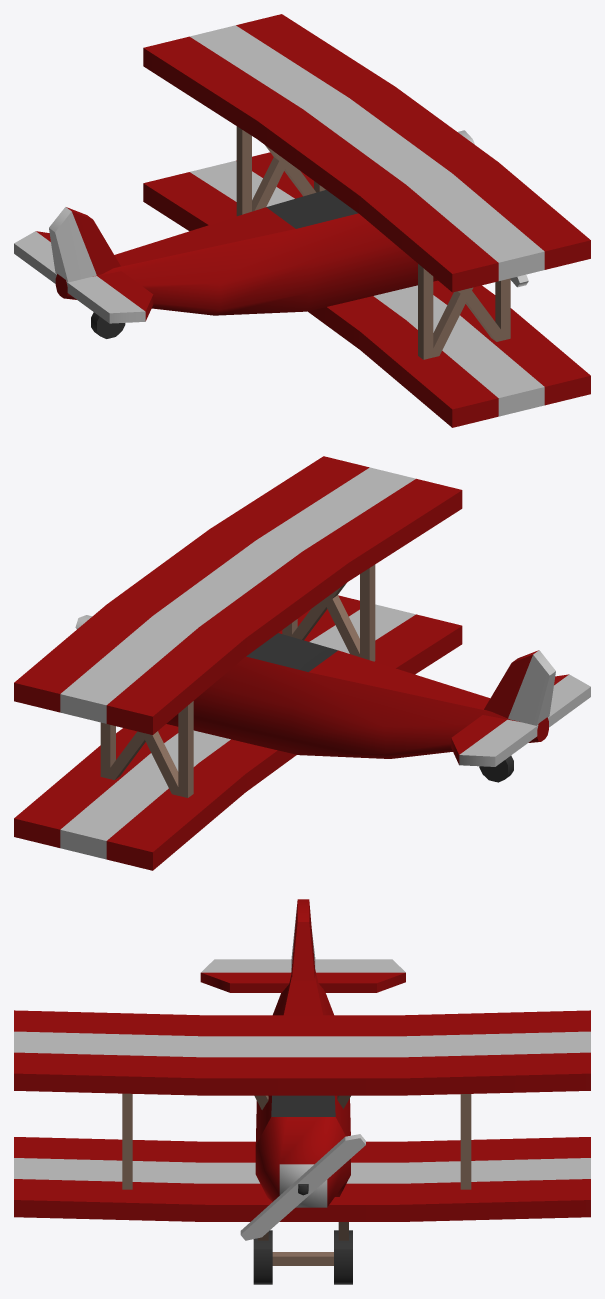
Rendered from AirPlane.fbx.
The picture shows the model from 3 angles, top to bottom: view 1: azimuth 30°, elevation 25°; view 2: azimuth 150°, elevation 25°; view 3: azimuth 270°, elevation 25°; orthographic projection. The views are drawn at different scales.
Visible parts, largest first — view 1: Plane; view 2: Plane; view 3: Plane.
Part boxes in pixels (x1,y1,x2,y2): Plane: [14, 14, 590, 427]; Plane: [14, 456, 590, 870]; Plane: [14, 899, 590, 1284].
Size of the model in its own units: 15.34 by 7.91 by 18.25.
